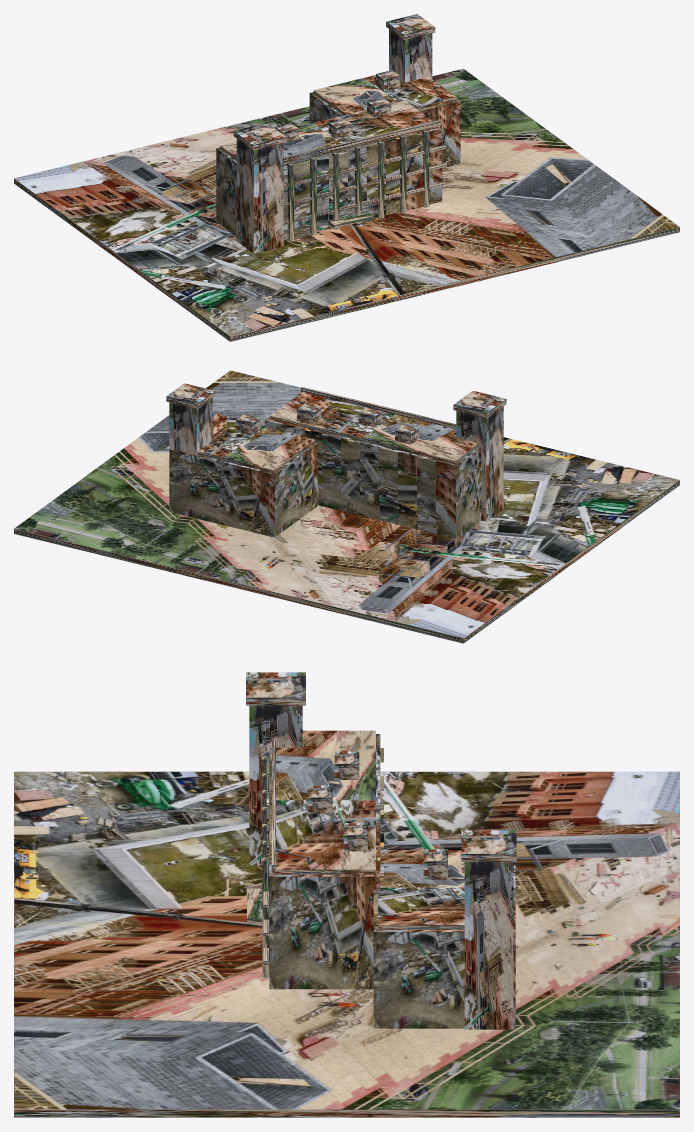
The picture shows the model from 3 angles, top to bottom: view 1: azimuth 30°, elevation 25°; view 2: azimuth 150°, elevation 25°; view 3: azimuth 270°, elevation 25°; orthographic projection. The views are drawn at different scales.
Parts seen in each view (by area): view 1: GroundTerrainPad, BuildingWingA_Body, ConcreteShaftFront, FacadeFrontGrid, RoofDeckMain, RoofDeckWingB, BuildingWingB_Body, ConcreteShaftRear, RoofParapetFront, ConcreteShaftFrontParapet, ConcreteShaftRearParapet, PillarColumn_X-33 (+7 smaller); view 2: GroundTerrainPad, BuildingWingB_Body, BuildingWingA_Body, RoofDeckMain, FacadeRearGrid, RoofDeckWingB, ConcreteShaftFront, ConcreteShaftRear, ConcreteShaftFrontParapet, RoofParapetFront, ConcreteShaftRearParapet, RoofHVAC_28; view 3: GroundTerrainPad, BuildingWingA_Body, RoofDeckMain, BuildingWingB_Body, ConcreteShaftRear, RoofDeckWingB, ConcreteShaftFront, ConcreteShaftFrontParapet, ConcreteShaftRearParapet, RoofHVAC_28, RoofHVAC_-24, RoofHVAC_-6 (+2 smaller).
Boxes of the visible parts, left/top/right/bottom form: GroundTerrainPad: left=14, top=68, right=679, bottom=341; BuildingWingA_Body: left=216, top=126, right=442, bottom=239; ConcreteShaftFront: left=236, top=139, right=283, bottom=253; FacadeFrontGrid: left=283, top=127, right=442, bottom=239; RoofDeckMain: left=220, top=100, right=438, bottom=165; RoofDeckWingB: left=313, top=75, right=456, bottom=115; BuildingWingB_Body: left=309, top=92, right=460, bottom=168; ConcreteShaftRear: left=389, top=29, right=432, bottom=82; RoofParapetFront: left=283, top=120, right=440, bottom=163; ConcreteShaftFrontParapet: left=233, top=123, right=286, bottom=150; ConcreteShaftRearParapet: left=386, top=14, right=435, bottom=39; PillarColumn_X-33: left=287, top=162, right=294, bottom=240; GroundTerrainPad: left=14, top=370, right=679, bottom=643; BuildingWingB_Body: left=169, top=443, right=318, bottom=537; BuildingWingA_Body: left=266, top=417, right=481, bottom=538; RoofDeckMain: left=270, top=392, right=478, bottom=463; FacadeRearGrid: left=265, top=419, right=456, bottom=534; RoofDeckWingB: left=197, top=414, right=314, bottom=472; ConcreteShaftFront: left=456, top=406, right=503, bottom=521; ConcreteShaftRear: left=169, top=398, right=212, bottom=510; ConcreteShaftFrontParapet: left=453, top=390, right=506, bottom=418; RoofParapetFront: left=300, top=386, right=456, bottom=429; ConcreteShaftRearParapet: left=166, top=383, right=215, bottom=409; RoofHVAC_28: left=236, top=414, right=260, bottom=435; GroundTerrainPad: left=14, top=771, right=679, bottom=1117; BuildingWingA_Body: left=269, top=734, right=380, bottom=989; RoofDeckMain: left=273, top=730, right=375, bottom=874; BuildingWingB_Body: left=373, top=862, right=515, bottom=1028; ConcreteShaftRear: left=464, top=862, right=513, bottom=1029; RoofDeckWingB: left=378, top=850, right=464, bottom=929; ConcreteShaftFront: left=249, top=705, right=302, bottom=865; ConcreteShaftFrontParapet: left=246, top=672, right=305, bottom=705; ConcreteShaftRearParapet: left=461, top=830, right=516, bottom=861; RoofHVAC_28: left=423, top=849, right=447, bottom=879; RoofHVAC_-24: left=334, top=751, right=359, bottom=779; RoofHVAC_-6: left=308, top=785, right=332, bottom=813.
Bounding box in the file's own units: 180 × 47 × 150.
Materials: 1 (1 with a texture image).
